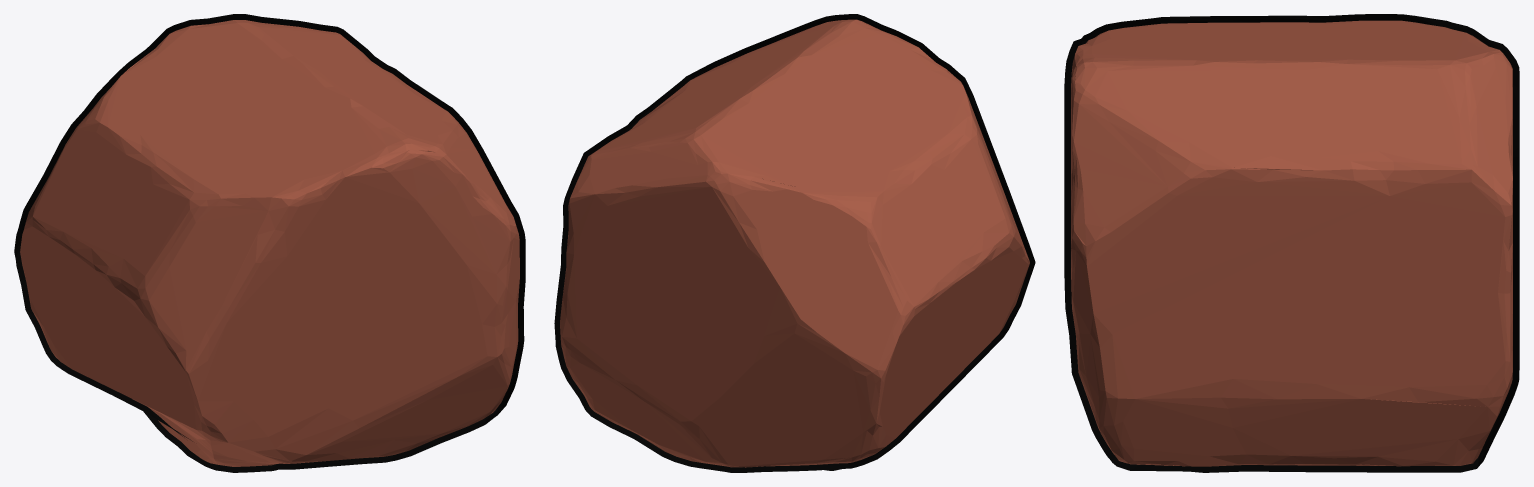
File: rock_2.glb
The picture shows the model from 3 angles, left to right: view 1: azimuth 30°, elevation 25°; view 2: azimuth 150°, elevation 25°; view 3: azimuth 270°, elevation 25°; orthographic projection. The views are drawn at different scales.
Visible parts, largest first — view 1: rock_2; view 2: rock_2; view 3: rock_2.
Boxes of the visible parts, x1,y1,x2,y2 form: rock_2: (14, 14, 525, 472); rock_2: (554, 14, 1035, 472); rock_2: (1064, 14, 1519, 472).
Size of the model in its own units: 6.18 by 6.18 by 6.18.
